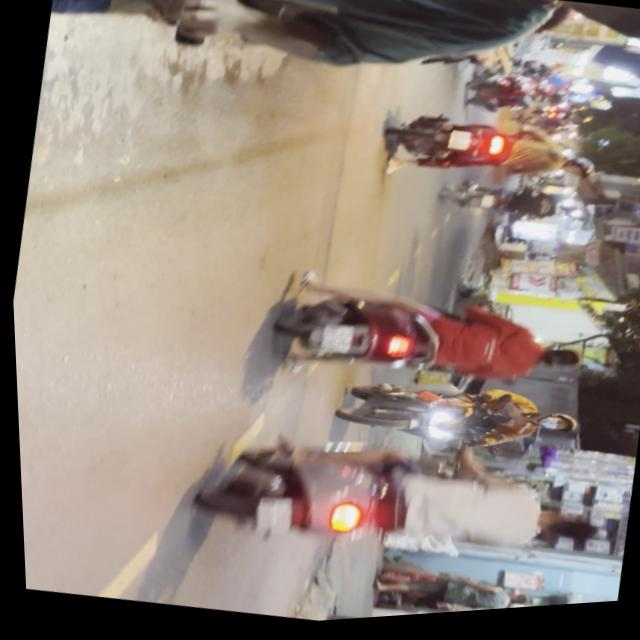helmet: (528, 417, 576, 446)
licenseplate: (175, 404, 614, 607), (257, 261, 591, 423), (327, 366, 582, 482)
motorcyclist: (531, 516, 598, 560), (533, 350, 581, 384)
nohelmet: (247, 497, 291, 544), (315, 327, 352, 362)
